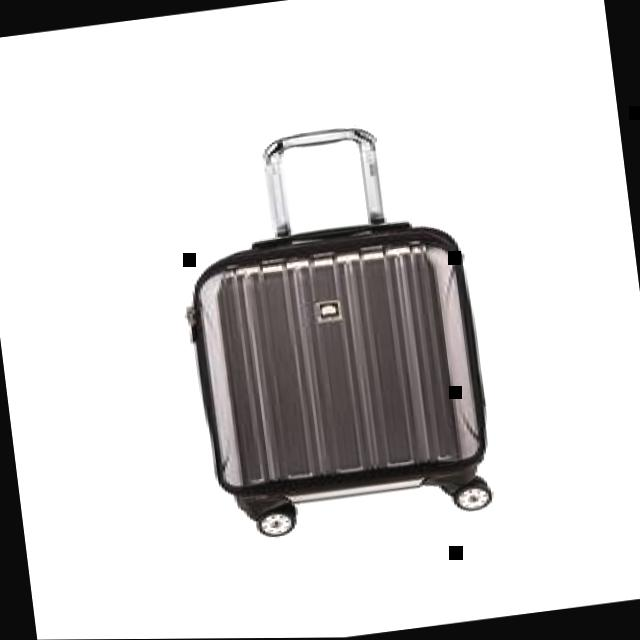luggage: (173, 207, 507, 520)
